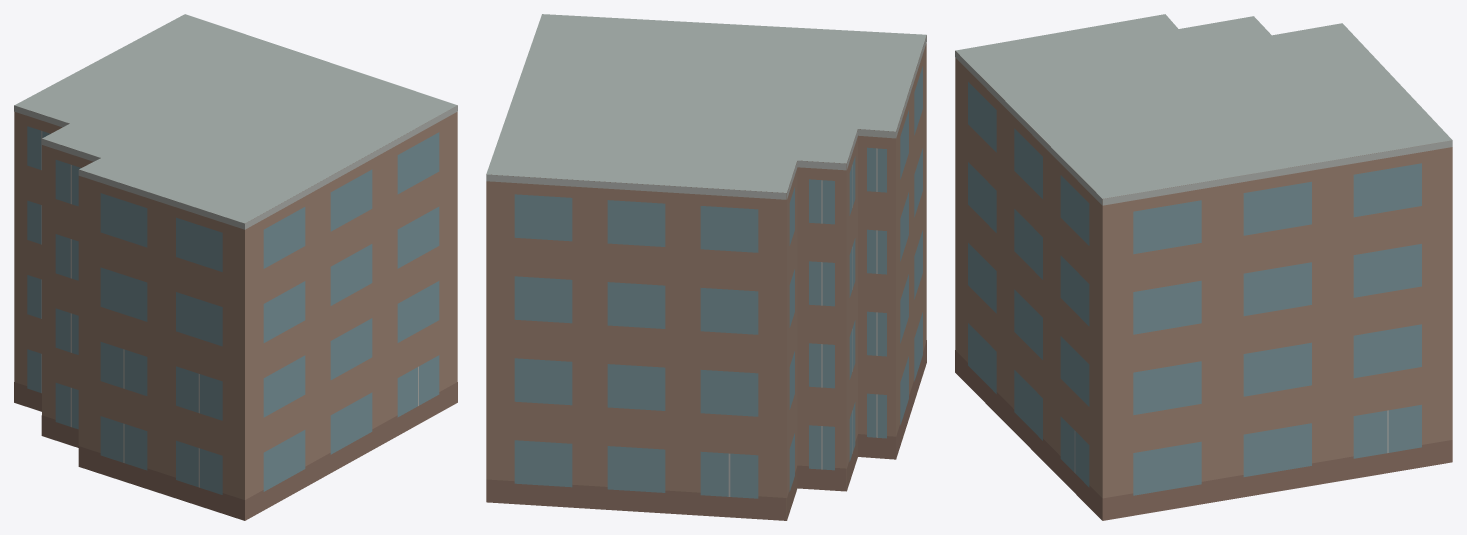
File: survey-upis-32994514.glb
The picture shows the model from 3 angles, left to right: view 1: azimuth 30°, elevation 25°; view 2: azimuth 150°, elevation 25°; view 3: azimuth 270°, elevation 25°; orthographic projection. The views are drawn at different scales.
Parts seen in each view (by area): view 1: survey-upis-32994514.tmp; view 2: survey-upis-32994514.tmp; view 3: survey-upis-32994514.tmp.
Boxes of the visible parts, <box> form: survey-upis-32994514.tmp: <box>14,14,457,520</box>; survey-upis-32994514.tmp: <box>486,14,926,520</box>; survey-upis-32994514.tmp: <box>955,14,1452,520</box>.
Bounding box in the file's own units: 14.42 × 11.7 × 16.39.
